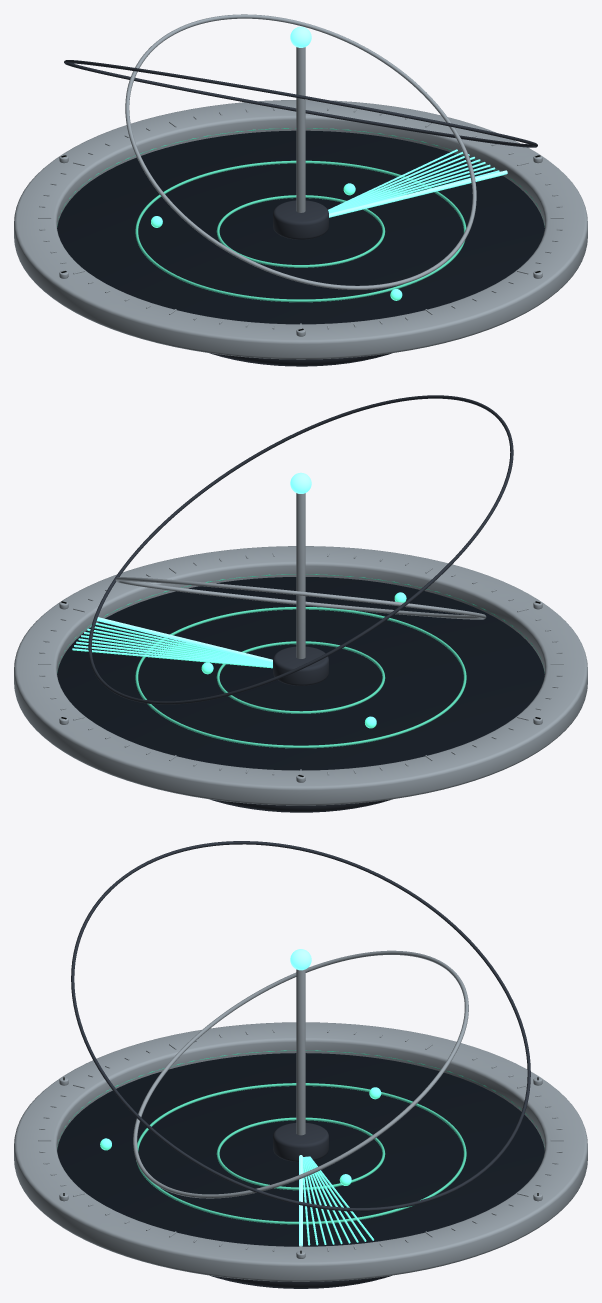
File: intel.glb
3 renders of one model, top to bottom at view 1: azimuth 30°, elevation 25°; view 2: azimuth 150°, elevation 25°; view 3: azimuth 270°, elevation 25°, orthographic.
Parts seen in each view (by area): view 1: radar_face, pbr_static_steel, wire_cone_a, pbr_static_accent, wire_cone_b, pbr_sweep_pivot_softlight, mast_hub, solid_body, emit_edge; view 2: radar_face, pbr_static_steel, wire_cone_b, pbr_static_accent, pbr_sweep_pivot_softlight, wire_cone_a, mast_hub, solid_body, emit_edge; view 3: radar_face, pbr_static_steel, wire_cone_b, wire_cone_a, pbr_static_accent, pbr_sweep_pivot_softlight, mast_hub, solid_body.
Boxes of the visible parts, x1,y1,x2,y2 form: radar_face: [57, 130, 544, 324]; pbr_static_steel: [14, 47, 587, 359]; wire_cone_a: [125, 14, 476, 289]; pbr_static_accent: [57, 128, 544, 302]; wire_cone_b: [64, 60, 537, 147]; pbr_sweep_pivot_softlight: [328, 149, 503, 217]; mast_hub: [273, 200, 328, 239]; solid_body: [210, 353, 391, 366]; emit_edge: [329, 170, 507, 217]; radar_face: [57, 577, 544, 770]; pbr_static_steel: [14, 493, 587, 805]; wire_cone_b: [88, 395, 513, 704]; pbr_static_accent: [57, 574, 544, 748]; pbr_sweep_pivot_softlight: [72, 621, 272, 668]; wire_cone_a: [115, 577, 486, 619]; mast_hub: [273, 646, 328, 685]; solid_body: [210, 799, 392, 812]; emit_edge: [97, 617, 272, 662]; radar_face: [57, 1053, 544, 1246]; pbr_static_steel: [14, 969, 587, 1281]; wire_cone_b: [71, 841, 530, 1211]; wire_cone_a: [133, 950, 468, 1198]; pbr_static_accent: [57, 1050, 544, 1224]; pbr_sweep_pivot_softlight: [300, 1156, 374, 1245]; mast_hub: [273, 1123, 328, 1162]; solid_body: [210, 1275, 391, 1288].
Size of the model in its own units: 4.3 by 2.52 by 4.3.
